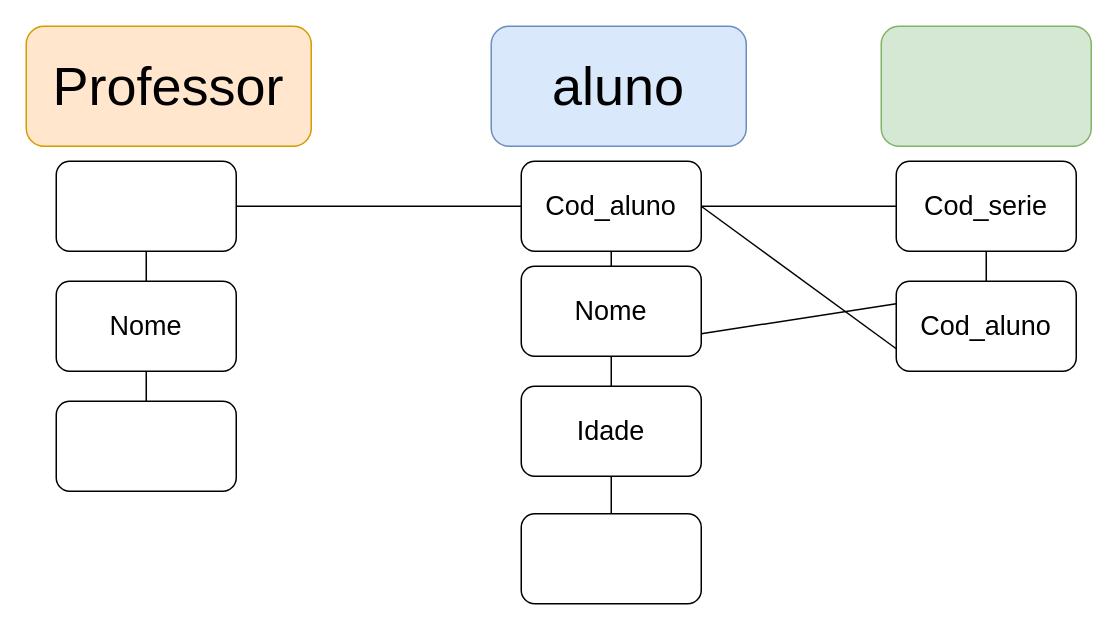
This 1118x630 diagram has some shape labels left out. The centre of each missing label's shape, as x and y in pixels:
"Cod_Prof" belongs at point (145, 205).
"endereço" belongs at point (610, 558).
"Materia" belongs at point (145, 445).
"Turma" belongs at point (985, 85).
